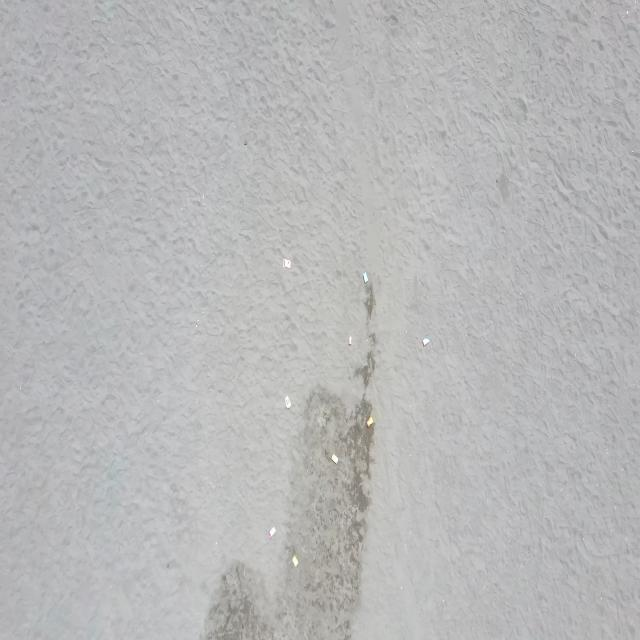retort-pouch: (330, 451, 339, 467), (268, 524, 277, 540), (282, 256, 292, 270), (421, 333, 430, 348), (284, 394, 292, 410), (366, 414, 374, 429), (292, 552, 298, 570), (362, 272, 368, 286), (348, 334, 353, 347)
